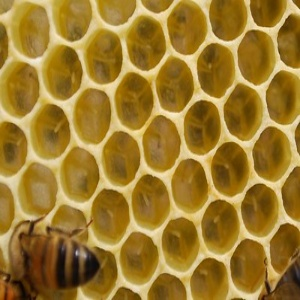bee: (10, 219, 116, 299)
